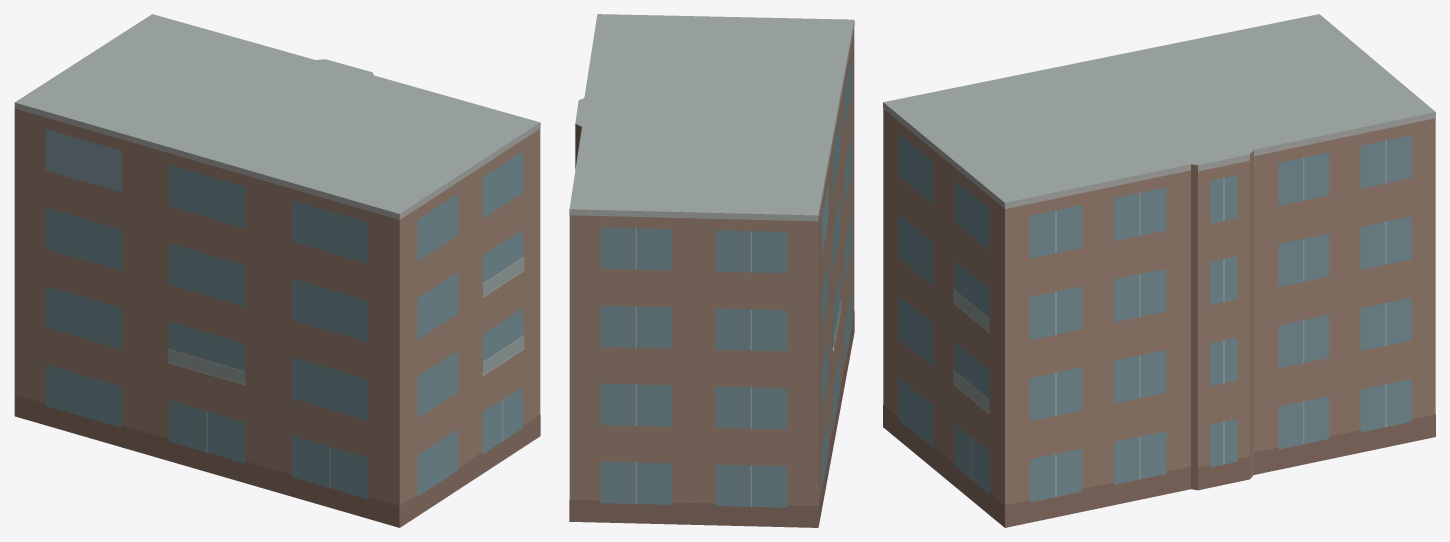
File: survey-upis-32726631.glb
The picture shows the model from 3 angles, left to right: view 1: azimuth 30°, elevation 25°; view 2: azimuth 150°, elevation 25°; view 3: azimuth 270°, elevation 25°; orthographic projection. The views are drawn at different scales.
Parts seen in each view (by area): view 1: survey-upis-32726631.tmp; view 2: survey-upis-32726631.tmp; view 3: survey-upis-32726631.tmp.
Part boxes in pixels (<box>): survey-upis-32726631.tmp: <box>14,14,540,527</box>; survey-upis-32726631.tmp: <box>569,14,854,527</box>; survey-upis-32726631.tmp: <box>883,14,1435,527</box>.
Size of the model in its own units: 15.97 by 12.8 by 19.74.
